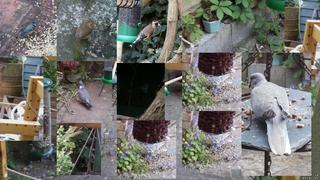blue tit: (20, 20, 37, 36)
collared dove: (248, 73, 291, 156)
goldfinch: (128, 20, 162, 49)
robin: (73, 20, 97, 46)
wood pigeon: (78, 81, 92, 108)
